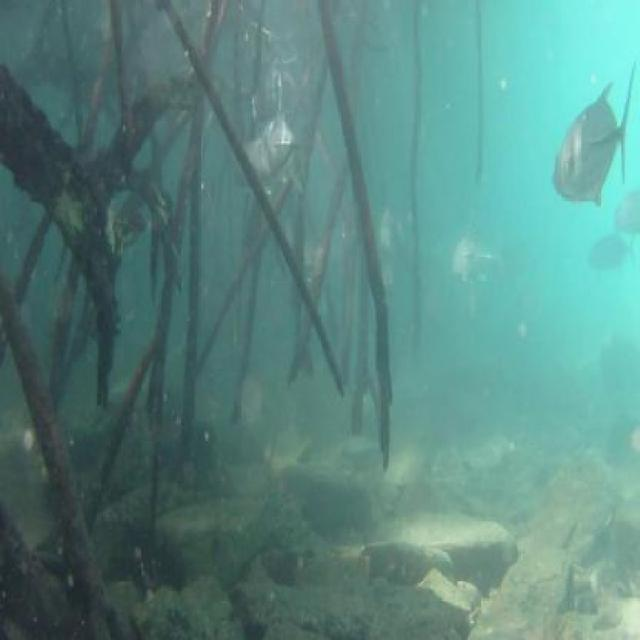Caranx_sexfasciatus_juvenile: (553, 62, 633, 218), (259, 108, 312, 192), (448, 224, 501, 299), (251, 61, 295, 134), (368, 197, 410, 258), (232, 128, 268, 194), (588, 230, 634, 279), (611, 179, 640, 239)
